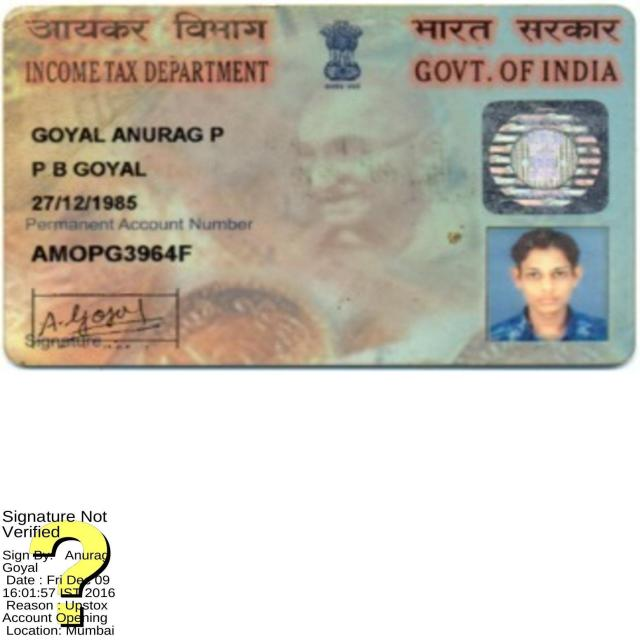pan_card: (3, 7, 628, 368)
